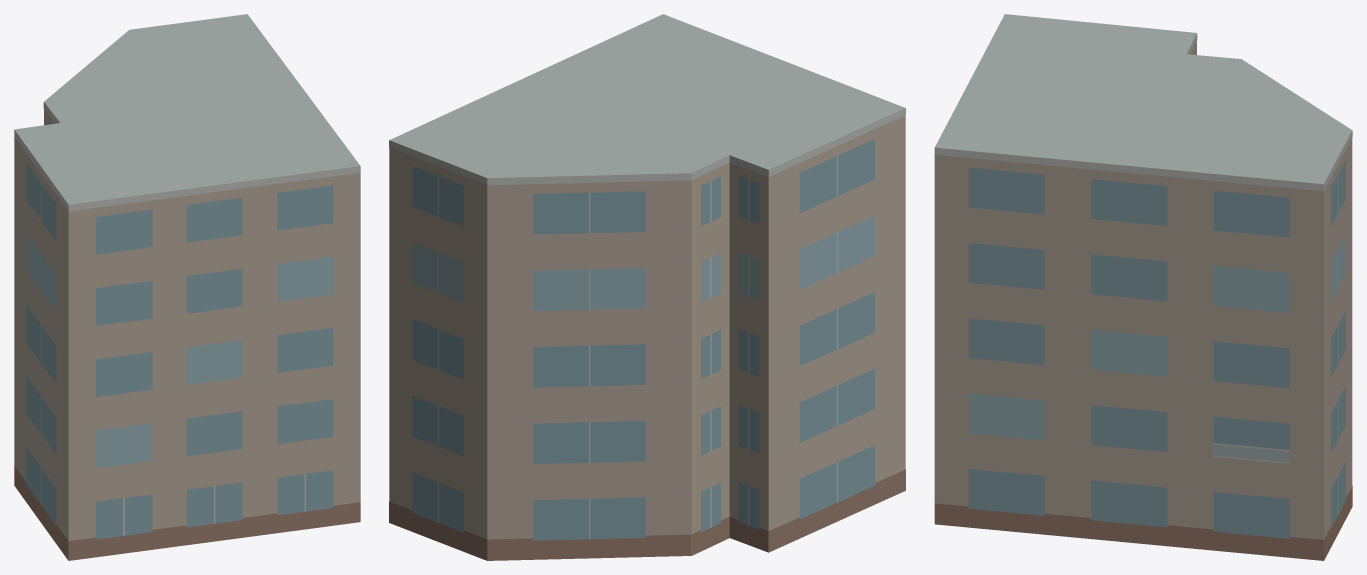
The model's file is survey-upis-32659456.glb.
3 renders of one model, left to right at view 1: azimuth 30°, elevation 25°; view 2: azimuth 150°, elevation 25°; view 3: azimuth 270°, elevation 25°, orthographic. The views are drawn at different scales.
Parts seen in each view (by area): view 1: survey-upis-32659456.tmp; view 2: survey-upis-32659456.tmp; view 3: survey-upis-32659456.tmp.
Part boxes in pixels (x1=…): survey-upis-32659456.tmp: x1=14, y1=14, x2=360, y2=560; survey-upis-32659456.tmp: x1=389, y1=14, x2=905, y2=560; survey-upis-32659456.tmp: x1=934, y1=14, x2=1352, y2=560.
Size of the model in its own units: 12.61 by 13 by 13.08.
